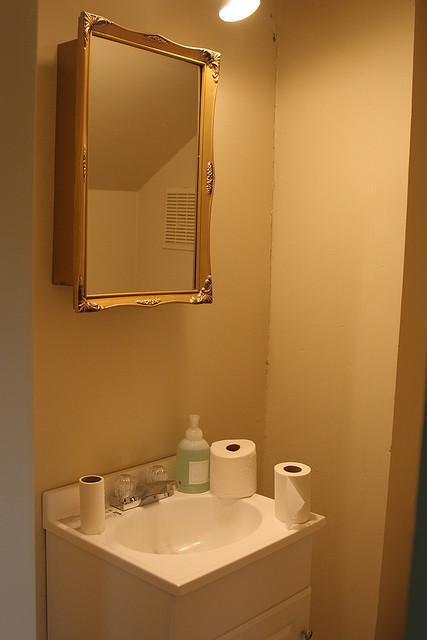Lavamanos: (101, 468, 267, 569)
